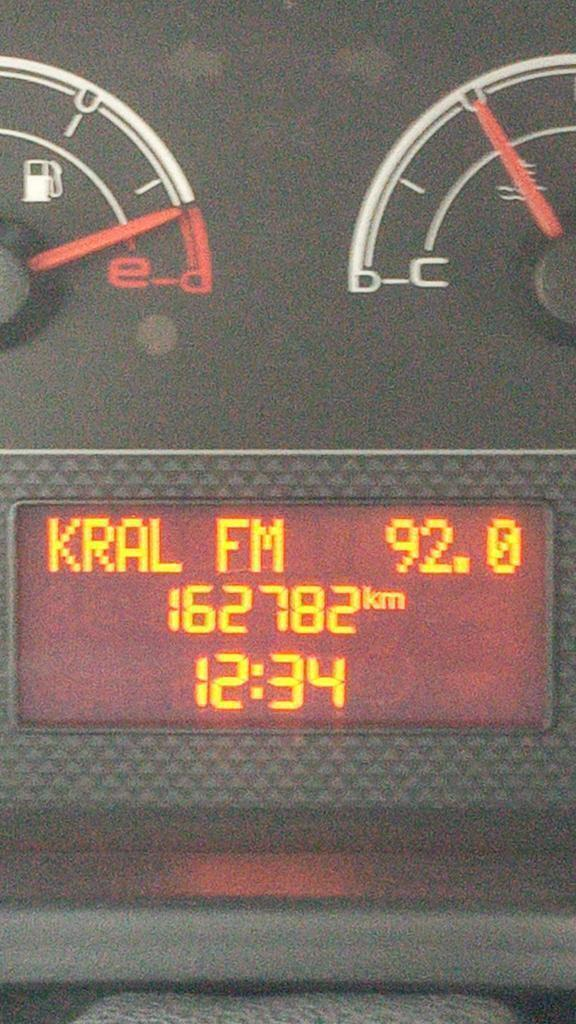,: (451, 551, 474, 580)
0: (482, 512, 524, 577)
1: (192, 651, 208, 708), (165, 584, 180, 633)
2: (210, 650, 248, 710), (418, 513, 454, 575), (219, 582, 255, 633), (327, 583, 361, 635)
3: (266, 649, 306, 711)
4: (306, 652, 349, 710)
6: (183, 581, 217, 634)
7: (256, 580, 288, 634)
8: (290, 581, 326, 635)
9: (383, 513, 418, 574)
X: (213, 512, 251, 576), (251, 513, 287, 574), (149, 515, 184, 572), (47, 514, 80, 574), (81, 516, 113, 574), (116, 516, 148, 573), (378, 588, 407, 612), (249, 659, 264, 702), (362, 582, 378, 611)
odometer: (2, 488, 560, 737)
